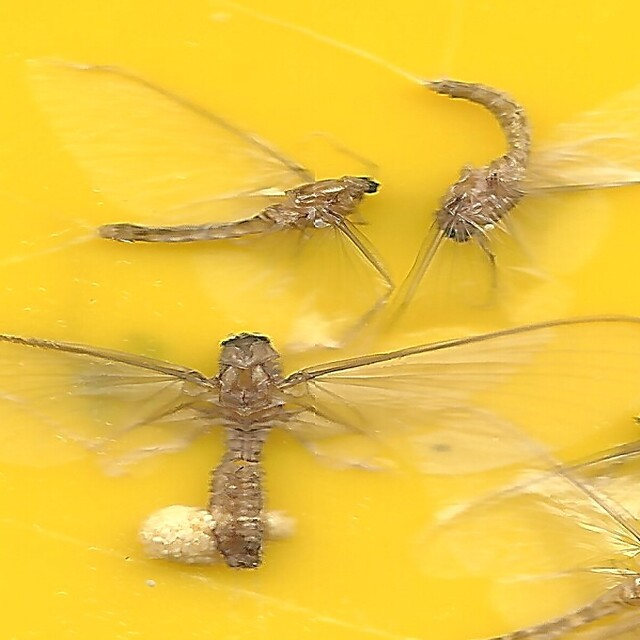Ephemeroptera: (201, 325, 288, 564), (107, 168, 379, 244), (427, 76, 533, 248)
